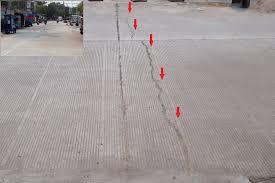Crack: (124, 12, 185, 149), (111, 3, 130, 130)
